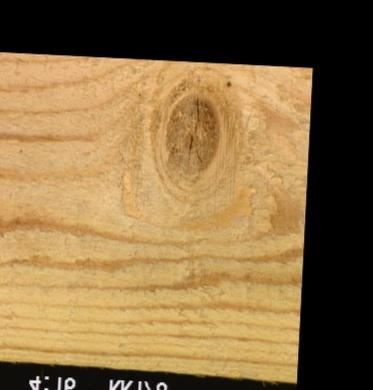small_knot: (222, 77, 235, 91)
sound_knot: (156, 89, 224, 180)
